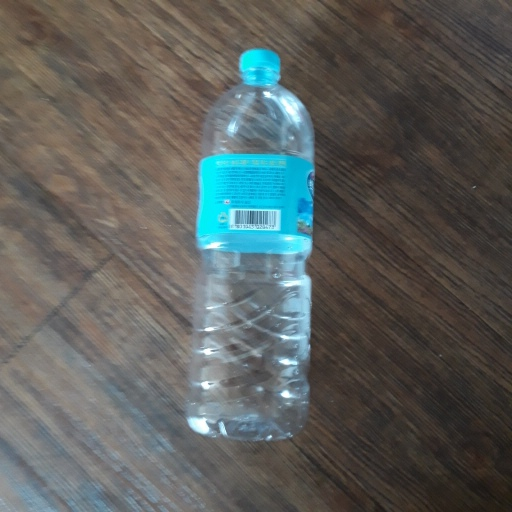Plastic_0: (187, 44, 317, 440)
